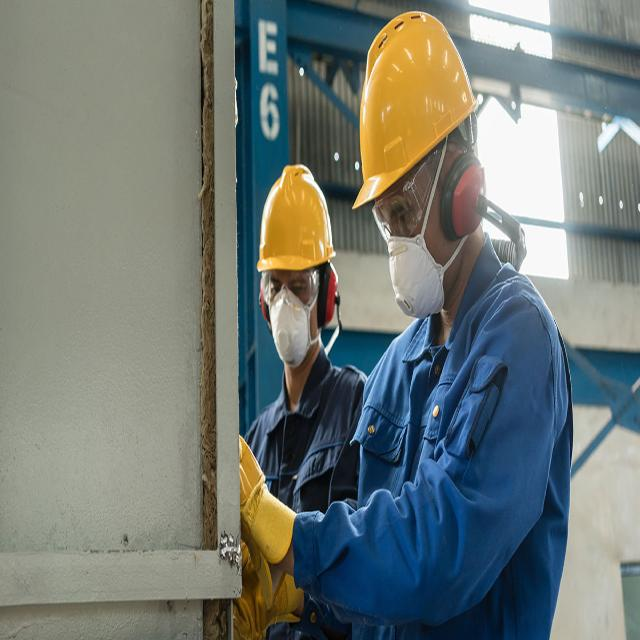gloves: (238, 430, 297, 608)
helmet: (358, 6, 484, 203), (255, 160, 338, 276)
